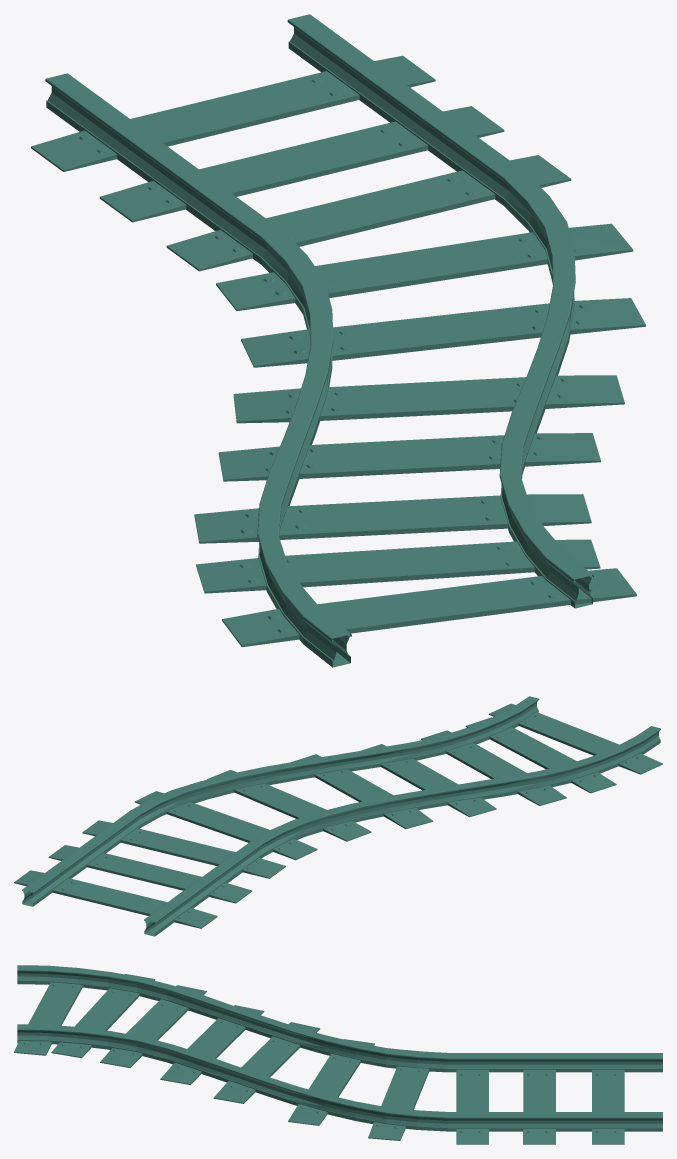
Rendered from Curvo derecho.fbx.
3 renders of one model, top to bottom at view 1: azimuth 30°, elevation 25°; view 2: azimuth 150°, elevation 25°; view 3: azimuth 270°, elevation 25°, orthographic. The views are drawn at different scales.
Parts seen in each view (by area): view 1: polySurface546; view 2: polySurface546; view 3: polySurface546.
Part boxes in pixels (x1=…): polySurface546: x1=31, y1=14, x2=645, y2=667; polySurface546: x1=14, y1=696, x2=662, y2=936; polySurface546: x1=14, y1=965, x2=662, y2=1144.
Bounding box in the file's own units: 7.56 × 0.2888 × 11.71.
